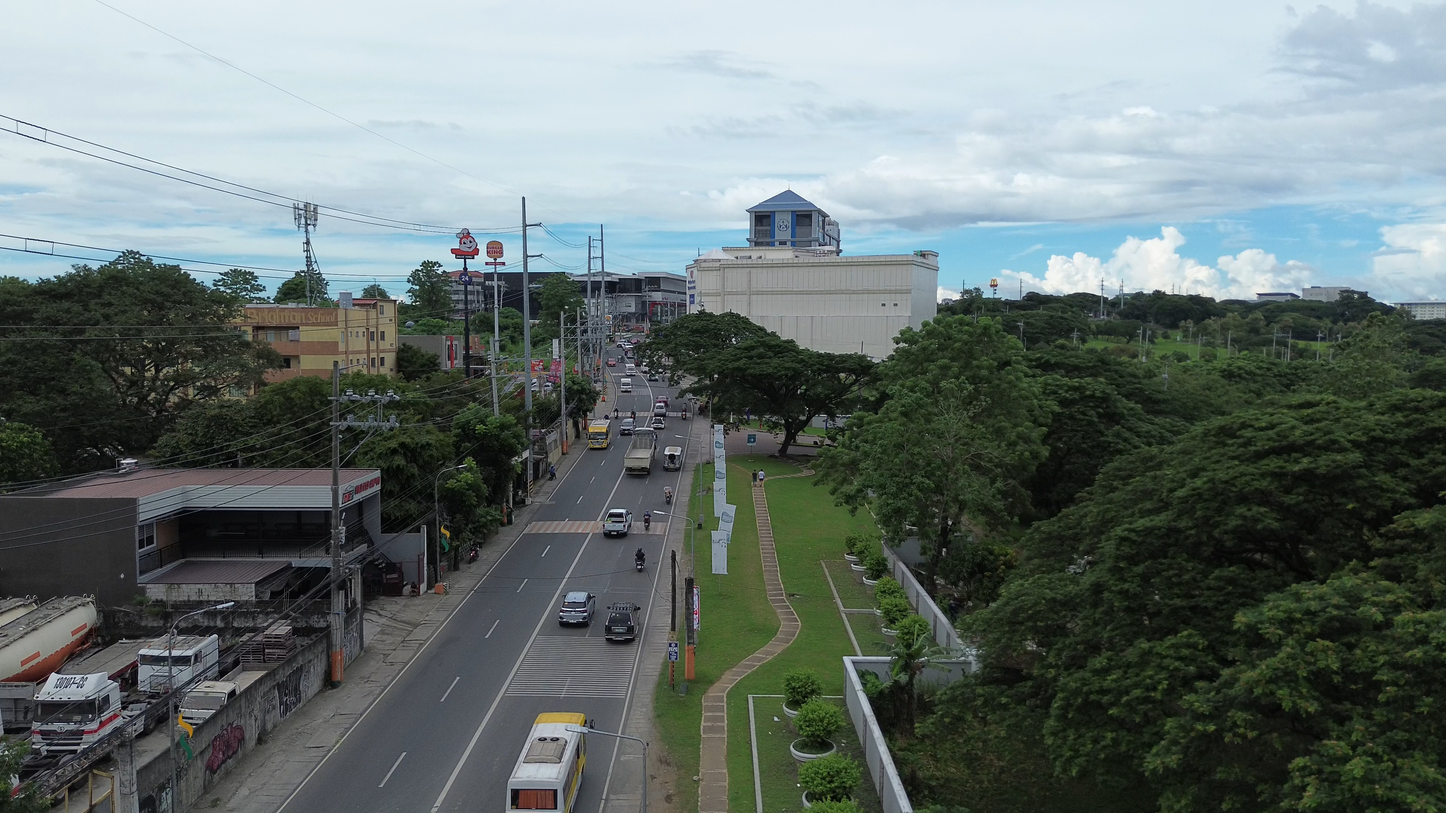bus: (507, 713, 586, 813)
car: (618, 417, 635, 435)
motorcycle: (467, 545, 479, 563), (665, 487, 673, 504)
vehicle: (0, 597, 97, 683), (32, 673, 122, 754), (138, 635, 218, 695), (179, 681, 237, 725), (624, 431, 656, 475), (605, 602, 639, 640), (558, 591, 595, 625), (602, 509, 632, 536), (587, 419, 611, 449), (663, 446, 683, 470), (618, 417, 635, 435), (650, 415, 666, 431), (619, 378, 633, 393), (653, 402, 667, 416), (625, 363, 637, 375), (647, 372, 659, 381), (607, 357, 616, 367)
